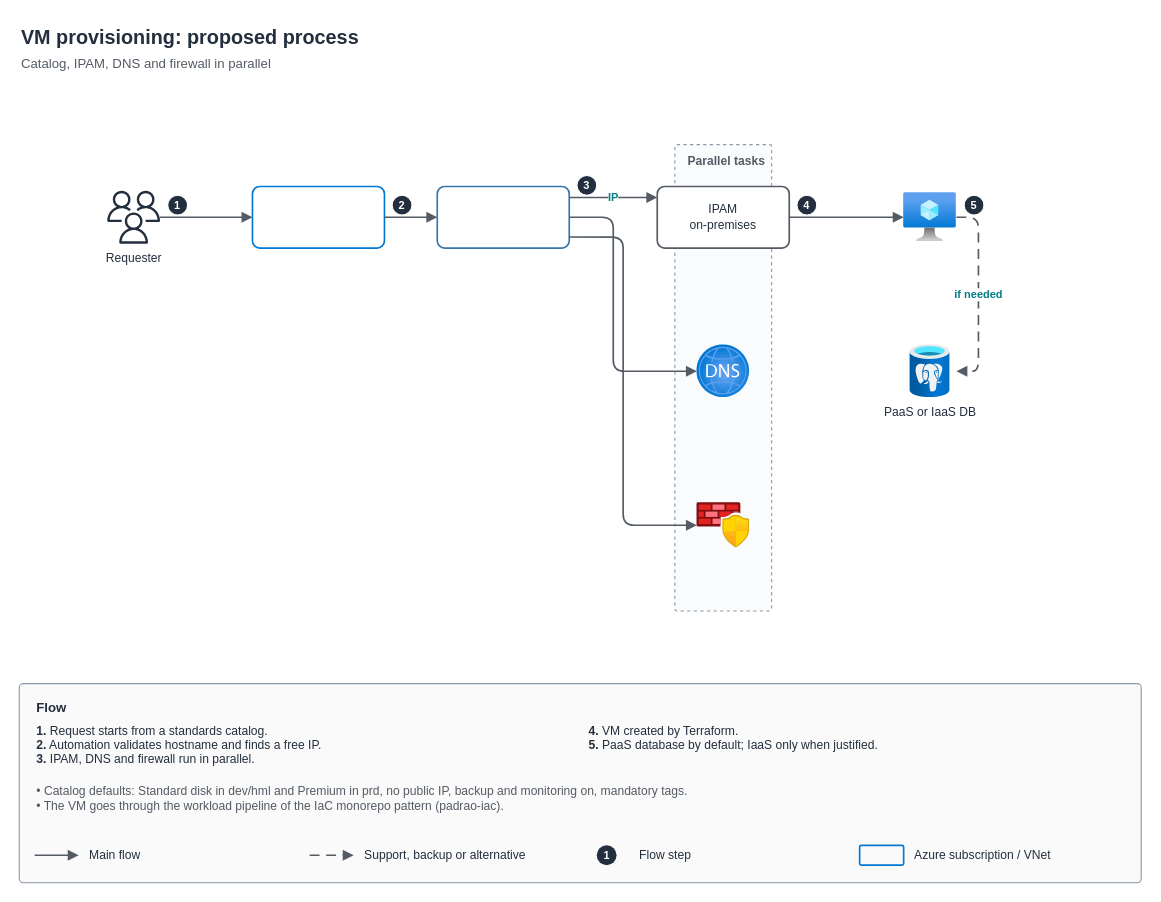
This 1161x902 diagram has some shape labels left out. Here are the shapes that lost their labels. From the top down, the box of each, then its label:
(251, 185, 385, 248): VM catalog size · disk · tags
(436, 185, 570, 248): Python automation finds free IP
(903, 190, 956, 243): VM Linux (Terraform)
(696, 344, 749, 397): DNS record
(696, 498, 749, 551): Firewall / NAT on-premises
